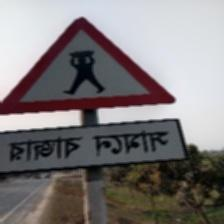Market-in-front: (0, 17, 185, 170)
